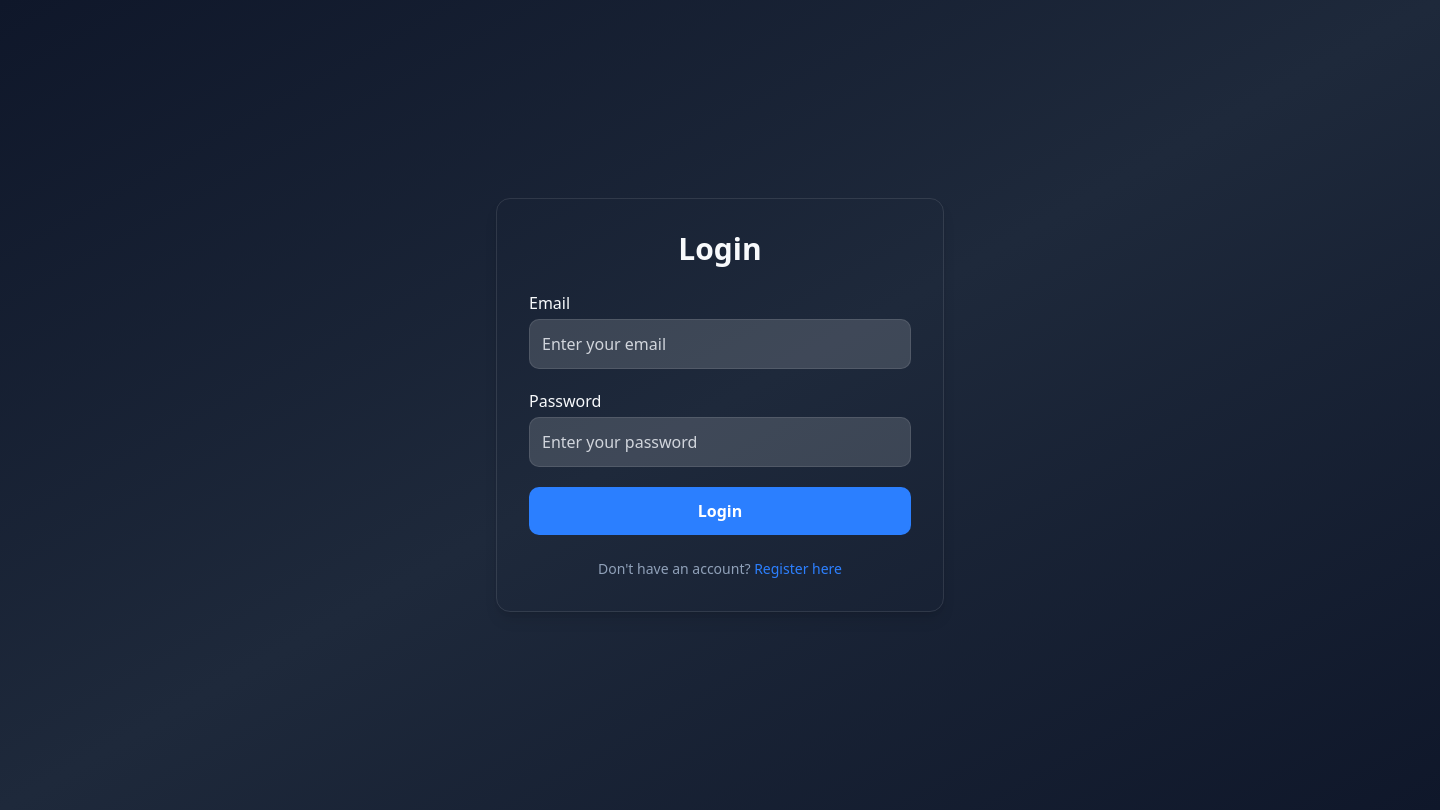
Test: Login Page › Error Handling › displays generic error when fetch fails
In the field with placeholder "Enter your email": (720, 344) [529,319,911,369], type "test@example.com"
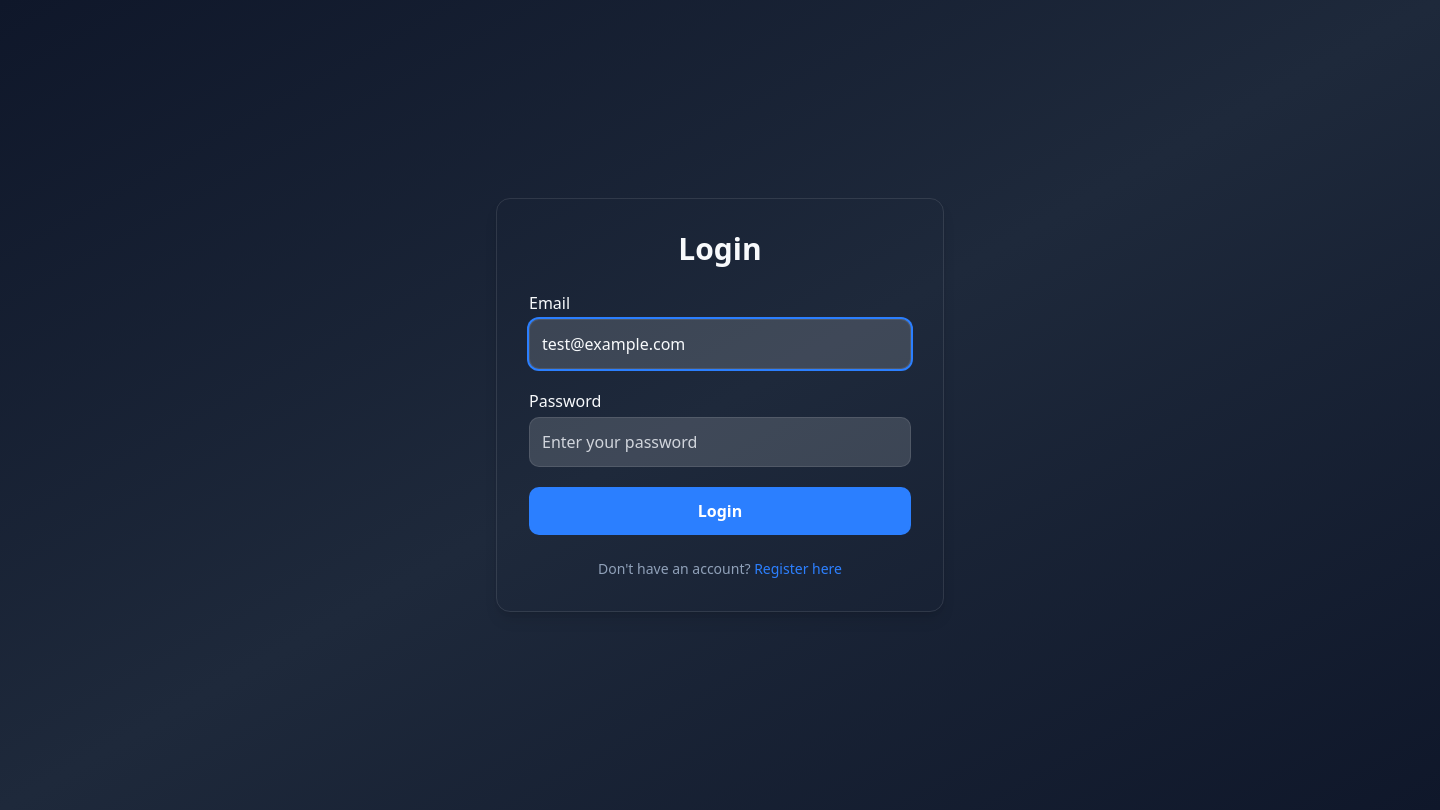
In the password field with placeholder "Enter your password": (720, 442) [529,417,911,467], type "password123"
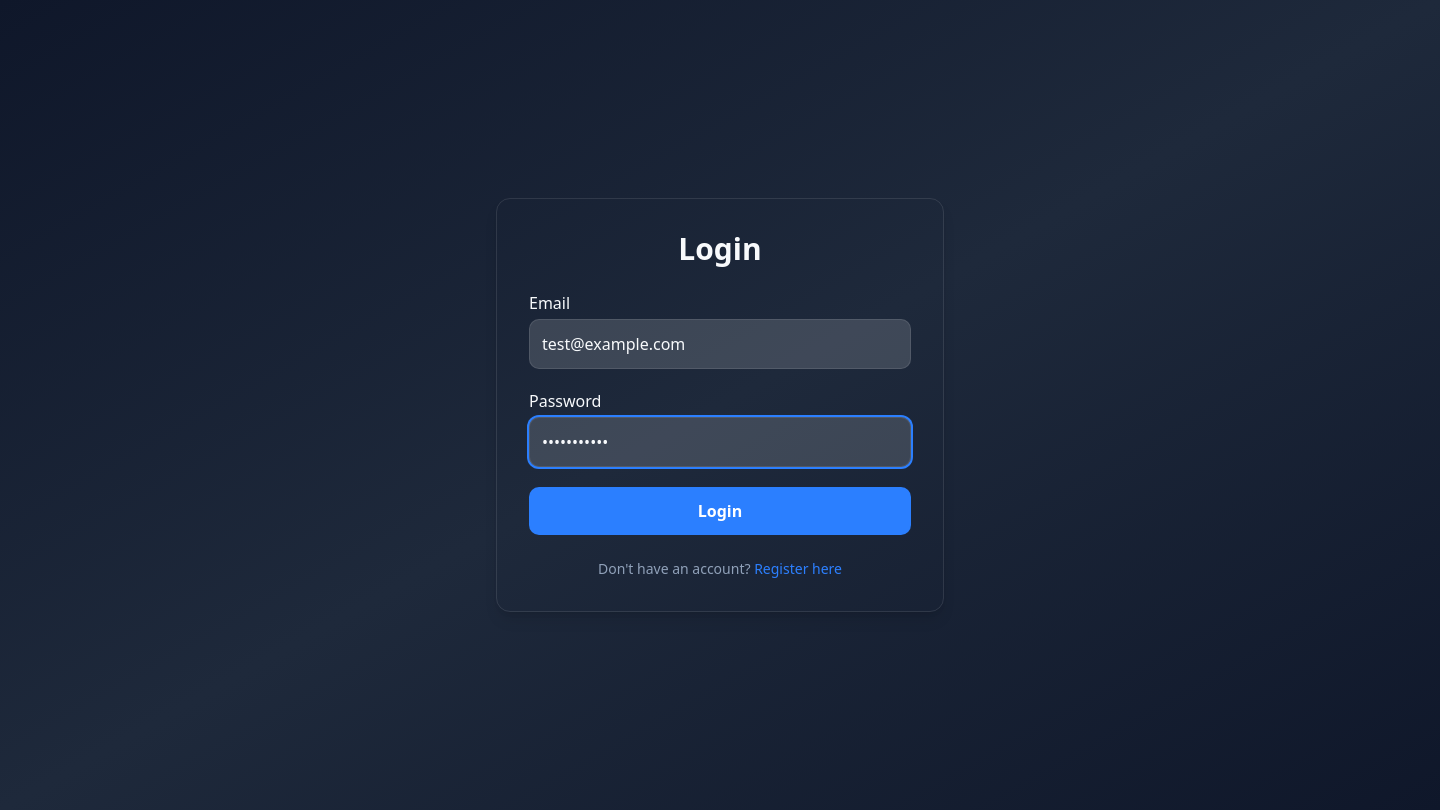
Click the button "Login": (720, 511) [529,487,911,535]
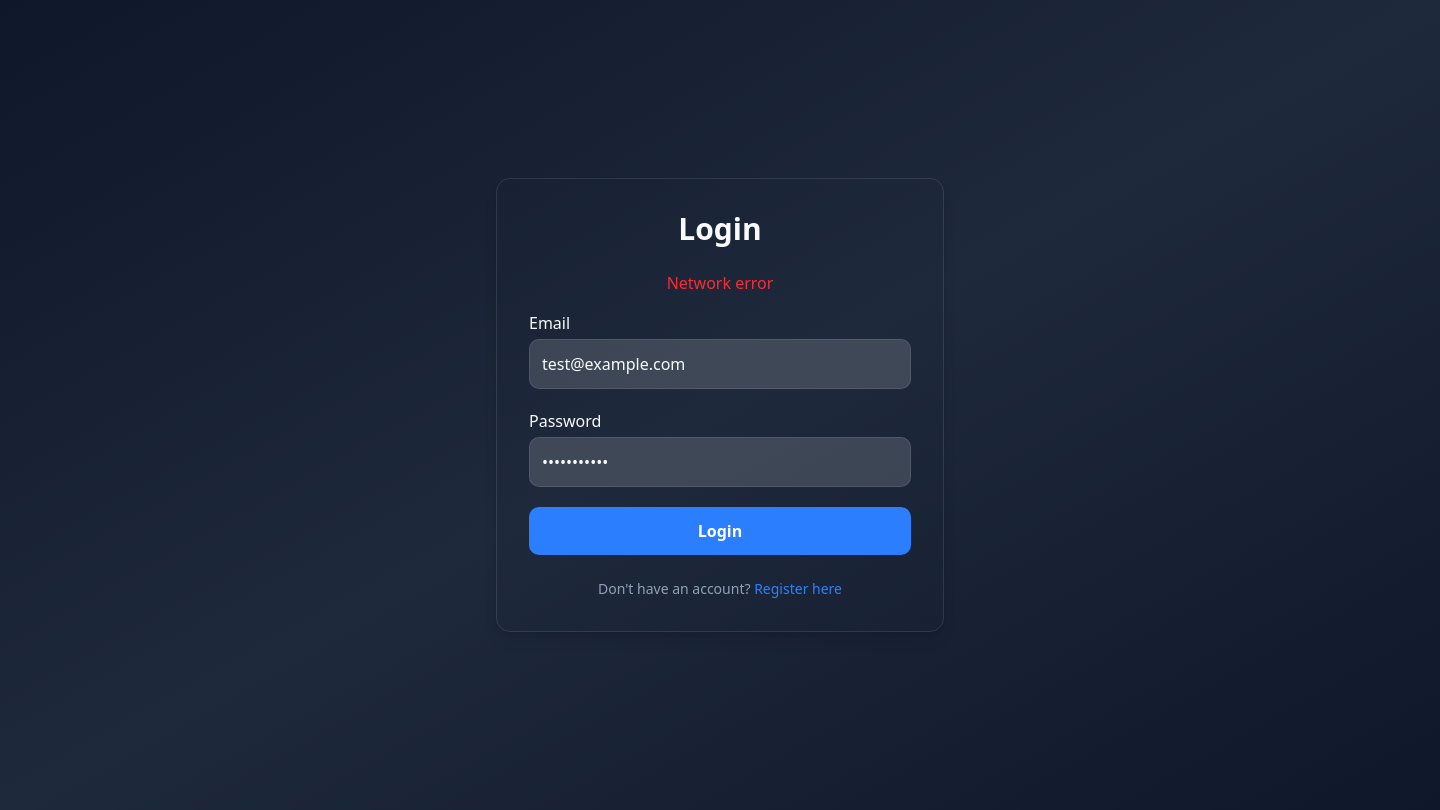
Result: the text "Network error" is shown at [667,272,773,294]
